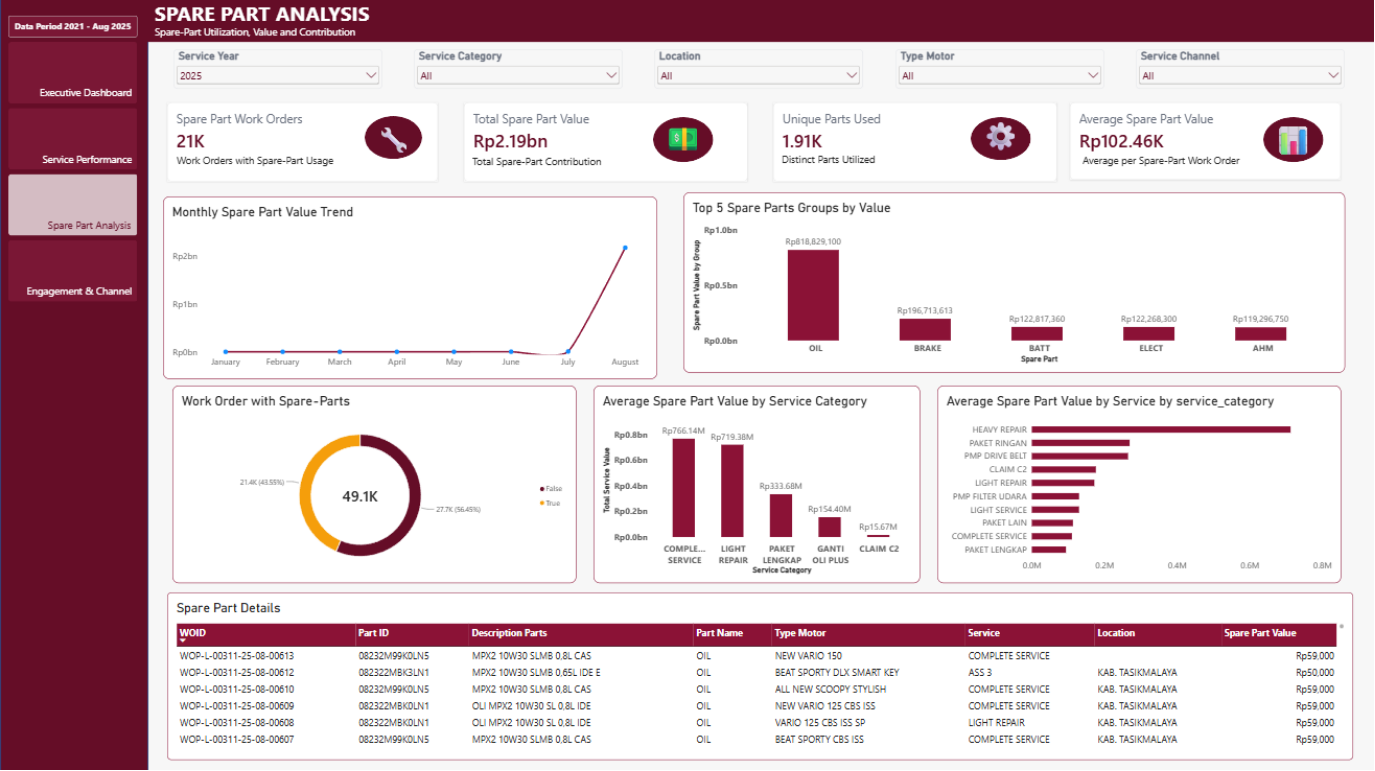

Layout of this report page (visuals, bound fields, positions):
{"tool":"powerbi","page":{"name":"Spare Part Analysis","canvas":[2560,1440],"ordinal":2},"visuals":[{"type":"shape","box":[0,0,276.1,1439.1],"z":0},{"type":"cardVisual","title":"Total Work Order","fields":{"Data":["Fact_Work_Order.Total Spare Part Value"]},"box":[864,192,528,147],"z":1000},{"type":"pageNavigator","box":[16,80,240,608],"z":2000},{"type":"cardVisual","title":"Total Work Order","fields":{"Data":["Fact_Work_Order.Spare Part Work Orders"]},"box":[312,192,504,147],"z":3000},{"type":"cardVisual","title":"Total Work Order","fields":{"Data":["Dim_Parts.Unique Parts Used"]},"box":[1440,192,528,147],"z":4000,"group":"g2"},{"type":"donutChart","title":"Work Order with Spare-Parts","fields":{"Category":["Fact_Work_Order.has_spare_part"],"Y":["Fact_Work_Order.Total Work Orders"]},"box":[320,720,752,368],"z":4000},{"type":"lineChart","title":"Monthly Spare Part Value Trend","fields":{"Category":["Fact_Work_Order.service_month_name"],"Y":["Fact_Work_Order.Total Spare Part Value"]},"box":[304,368,920.1,340.4],"z":5000},{"type":"tableEx","title":"Spare Part Details","fields":{"Values":["Fact_Work_Order.woid","WO_Part_Bridge.partid","Dim_Parts.deskripsi1","Dim_Parts.kelompok_barang","Fact_Work_Order.type_motor","Fact_Work_Order.service_category","Fact_Work_Order.location","Sum(WO_Part_Bridge.spare_part_value)"]},"box":[312,1104,2208,312],"z":6000},{"type":"shape","box":[272,0,2288,80],"z":7000},{"type":"clusteredColumnChart","title":"Top 5 Spare Parts Groups by Value","fields":{"Category":["Dim_Parts.kelompok_barang"],"Y":["WO_Part_Bridge.Spare Part Value by Group"]},"box":[1272,360,1232,336],"z":8000},{"type":"slicer","fields":{"Values":["Fact_Work_Order.service_year"]},"box":[323,94,389.1,73.9],"z":9000},{"type":"slicer","fields":{"Values":["Fact_Work_Order.service_category"]},"box":[770.7,94,389.1,73.9],"z":10000},{"type":"slicer","fields":{"Values":["Fact_Work_Order.location"]},"box":[1218.5,94,389.1,73.9],"z":11000},{"type":"slicer","fields":{"Values":["Fact_Work_Order.type_motor"]},"box":[1666.2,94,389.1,73.9],"z":12000},{"type":"slicer","fields":{"Values":["Fact_Work_Order.service_channel"]},"box":[2114,94,389.1,73.9],"z":13000},{"type":"textbox","box":[288,0,752,80],"z":14000},{"type":"group","id":"g1","title":"Group 1","box":[16,32,240,32],"z":15000},{"type":"clusteredColumnChart","title":"Average Spare Part Value by Service Category","fields":{"Category":["Fact_Work_Order.service_category"],"Y":["Fact_Work_Order.Total Service Value"]},"box":[1104,720,608,368],"z":16000},{"type":"textbox","box":[880,290,304,28],"z":17000},{"type":"cardVisual","title":"Total Work Order","fields":{"Data":["Dim_Parts.Average Spare Part Value"]},"box":[1992,192,504,144],"z":18000},{"type":"group","id":"g2","title":"Group 4","box":[1440,192,528,147],"z":19000},{"type":"textbox","box":[328,288,352,32],"z":20000},{"type":"shape","box":[1216,220,112,84],"z":21000},{"type":"shape","box":[16,32,240,40],"z":22000,"group":"g1"},{"type":"shape","box":[2352,220,112,84],"z":22000},{"type":"textbox","box":[1456,285.5,448,26.7],"z":22000,"group":"g2"},{"type":"textbox","box":[16,40,240,24],"z":23000,"group":"g1"},{"type":"textbox","box":[2016,288,448,28],"z":23000},{"type":"group","id":"g3","title":"Group 3","box":[678.5,218.7,106.9,80.2],"z":24000},{"type":"barChart","fields":{"Category":["Fact_Work_Order.service_category"],"Y":["Dim_Parts.Average Spare Part Value by Service"]},"box":[1744,720,752,368],"z":25000},{"type":"textbox","box":[1808,216,112,80],"z":26000},{"type":"shape","box":[678.5,218.7,106.9,80.2],"z":27000,"group":"g3"},{"type":"shape","box":[1808,218.7,112,80.2],"z":27000,"group":"g2"},{"type":"textbox","box":[680,224,104,72],"z":27000},{"type":"textbox","box":[1216,216,112,88],"z":28000},{"type":"textbox","box":[2352,224,112,80],"z":29000}]}

Visuals, with their boxes on the page's 2560x1440 design canvas (x1, y1, x2, y2). These are canvas units, not pixel positions in the 1375x771 screenshot, which may show the page scaled, cropped or inside an application window:
shape: select_region(0, 0, 276, 1439)
"Total Work Order" cardVisual: select_region(864, 192, 1392, 339)
pageNavigator: select_region(16, 80, 256, 688)
"Total Work Order" cardVisual: select_region(312, 192, 816, 339)
"Total Work Order" cardVisual: select_region(1440, 192, 1968, 339)
"Work Order with Spare-Parts" donutChart: select_region(320, 720, 1072, 1088)
"Monthly Spare Part Value Trend" lineChart: select_region(304, 368, 1224, 708)
"Spare Part Details" tableEx: select_region(312, 1104, 2520, 1416)
shape: select_region(272, 0, 2560, 80)
"Top 5 Spare Parts Groups by Value" clusteredColumnChart: select_region(1272, 360, 2504, 696)
slicer - Fact_Work_Order.service_year: select_region(323, 94, 712, 168)
slicer - Fact_Work_Order.service_category: select_region(771, 94, 1160, 168)
slicer - Fact_Work_Order.location: select_region(1218, 94, 1608, 168)
slicer - Fact_Work_Order.type_motor: select_region(1666, 94, 2055, 168)
slicer - Fact_Work_Order.service_channel: select_region(2114, 94, 2503, 168)
textbox: select_region(288, 0, 1040, 80)
"Group 1" group: select_region(16, 32, 256, 64)
"Average Spare Part Value by Service Category" clusteredColumnChart: select_region(1104, 720, 1712, 1088)
textbox: select_region(880, 290, 1184, 318)
"Total Work Order" cardVisual: select_region(1992, 192, 2496, 336)
"Group 4" group: select_region(1440, 192, 1968, 339)
textbox: select_region(328, 288, 680, 320)
shape: select_region(1216, 220, 1328, 304)
shape: select_region(16, 32, 256, 72)
shape: select_region(2352, 220, 2464, 304)
textbox: select_region(1456, 286, 1904, 312)
textbox: select_region(16, 40, 256, 64)
textbox: select_region(2016, 288, 2464, 316)
"Group 3" group: select_region(678, 219, 785, 299)
barChart - Fact_Work_Order.service_category x Dim_Parts.Average Spare Part Value by Service: select_region(1744, 720, 2496, 1088)
textbox: select_region(1808, 216, 1920, 296)
shape: select_region(678, 219, 785, 299)
shape: select_region(1808, 219, 1920, 299)
textbox: select_region(680, 224, 784, 296)
textbox: select_region(1216, 216, 1328, 304)
textbox: select_region(2352, 224, 2464, 304)
